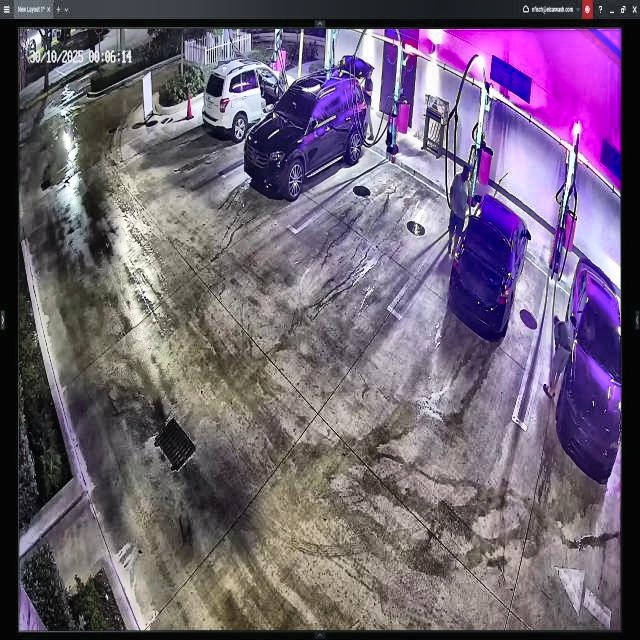Car: (242, 61, 372, 201), (450, 189, 531, 340), (200, 58, 295, 142)
